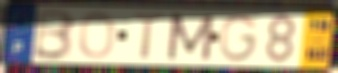8: (263, 13, 300, 65)
B: (31, 7, 77, 62)
G: (219, 13, 262, 63)
M: (165, 12, 217, 62)
O: (77, 10, 118, 61)
T: (133, 12, 166, 61)
